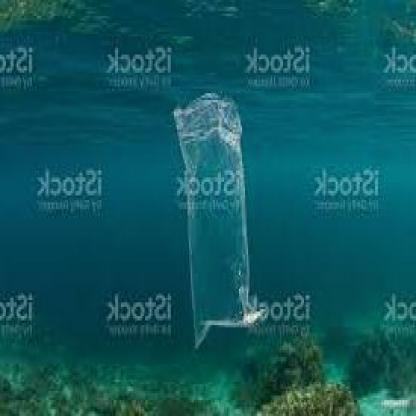pbag: (168, 86, 271, 352)
